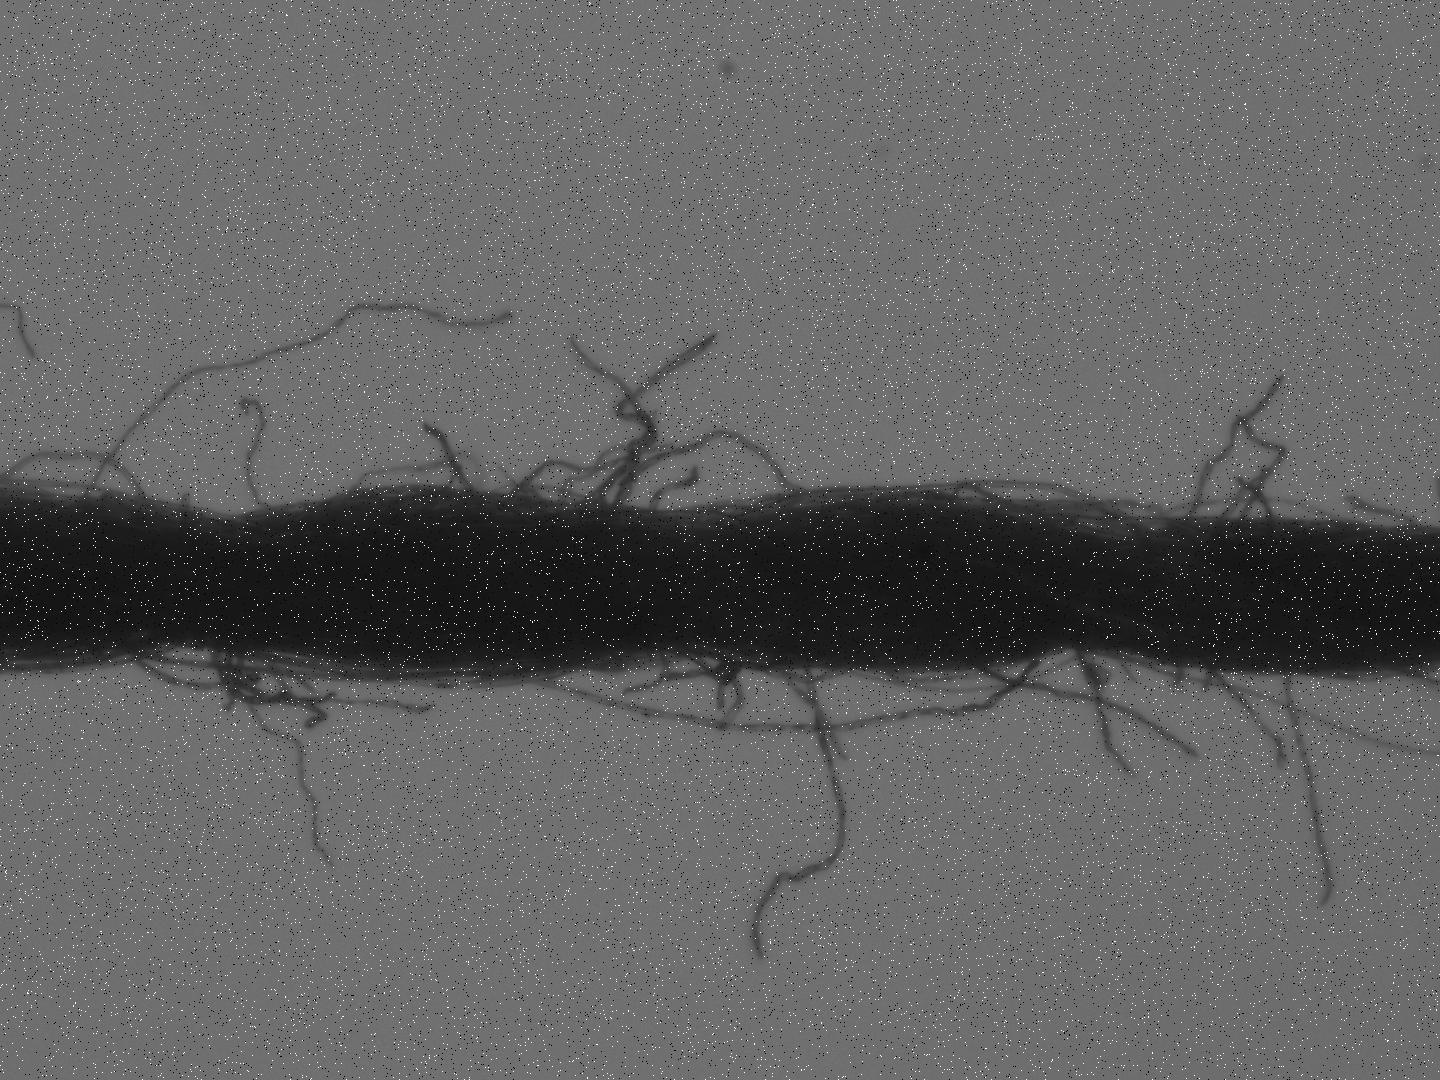loop_fiber: (599, 423, 815, 534), (740, 476, 1134, 537), (626, 640, 863, 694), (6, 447, 154, 509), (122, 646, 243, 695), (476, 481, 593, 517), (347, 459, 461, 492), (941, 478, 1031, 517), (1059, 518, 1186, 540)
protruding_fiber: (1282, 672, 1338, 913)
